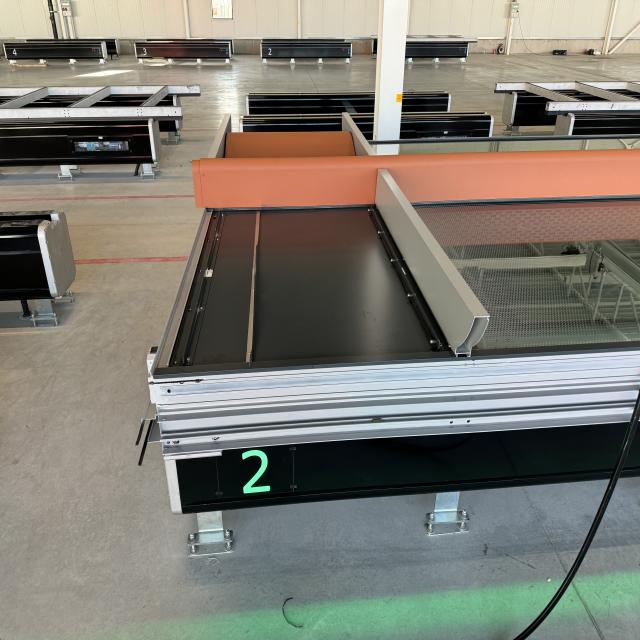brtva_nedostaje: (164, 368, 638, 442)
brtva_ostecena: (468, 381, 638, 640)
lim_nedostaje: (134, 172, 208, 387), (220, 180, 273, 382)
